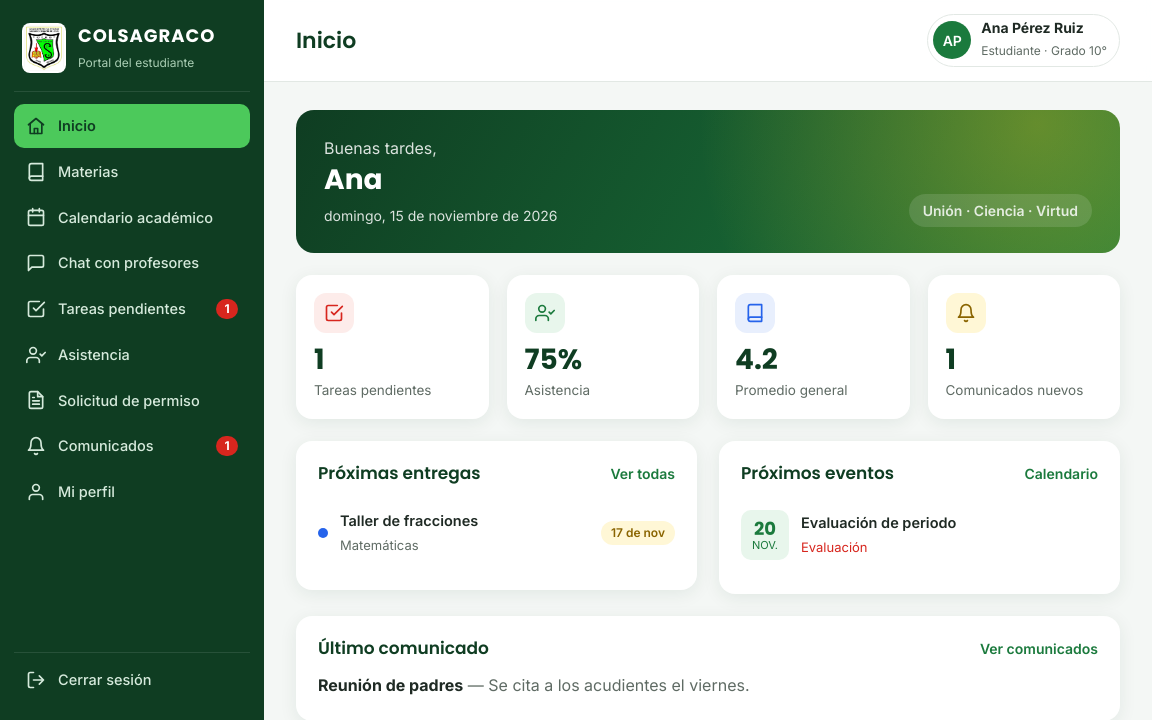
it: Plataforma del estudiante › Comunicados: al abrir uno se marca como leído
Expected: the heading "Ana" is shown, [324, 160, 382, 199]
Click the button "Comunicados 1". click: (132,446)
box: [14, 424, 250, 468]
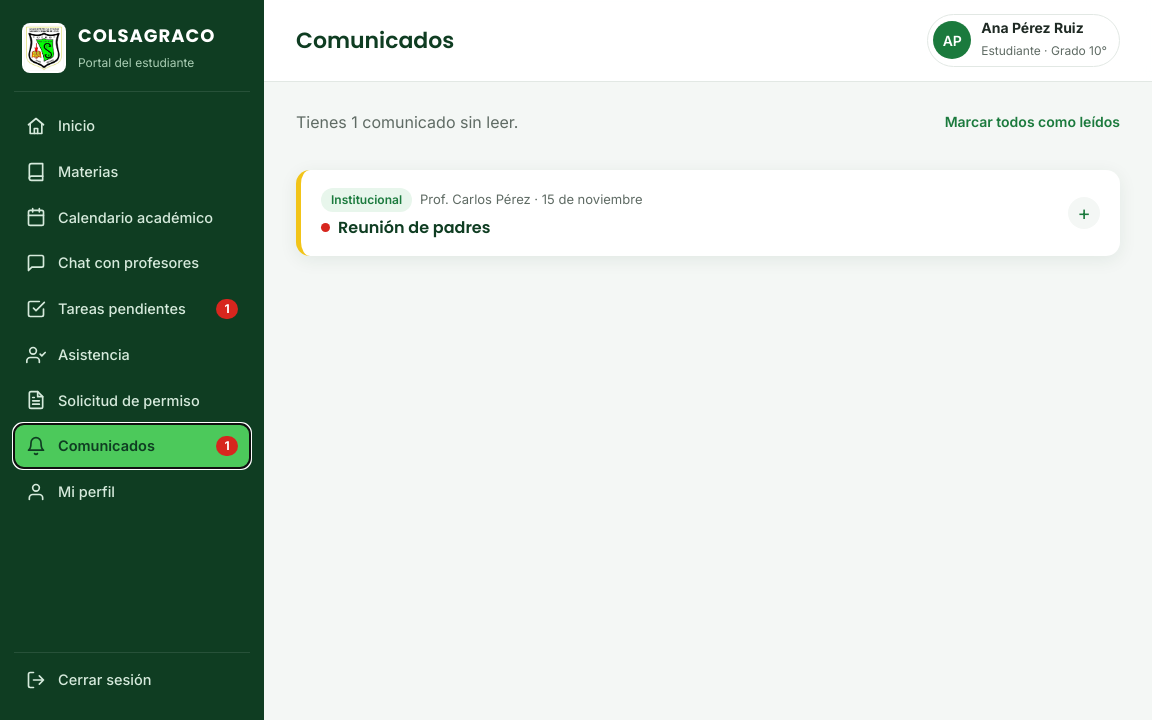
Now the text "Tienes 1 comunicado sin leer." is shown, box [296, 110, 518, 134]
Click the button "Reunión de padres". click: (367,200)
box: [301, 170, 1120, 256]
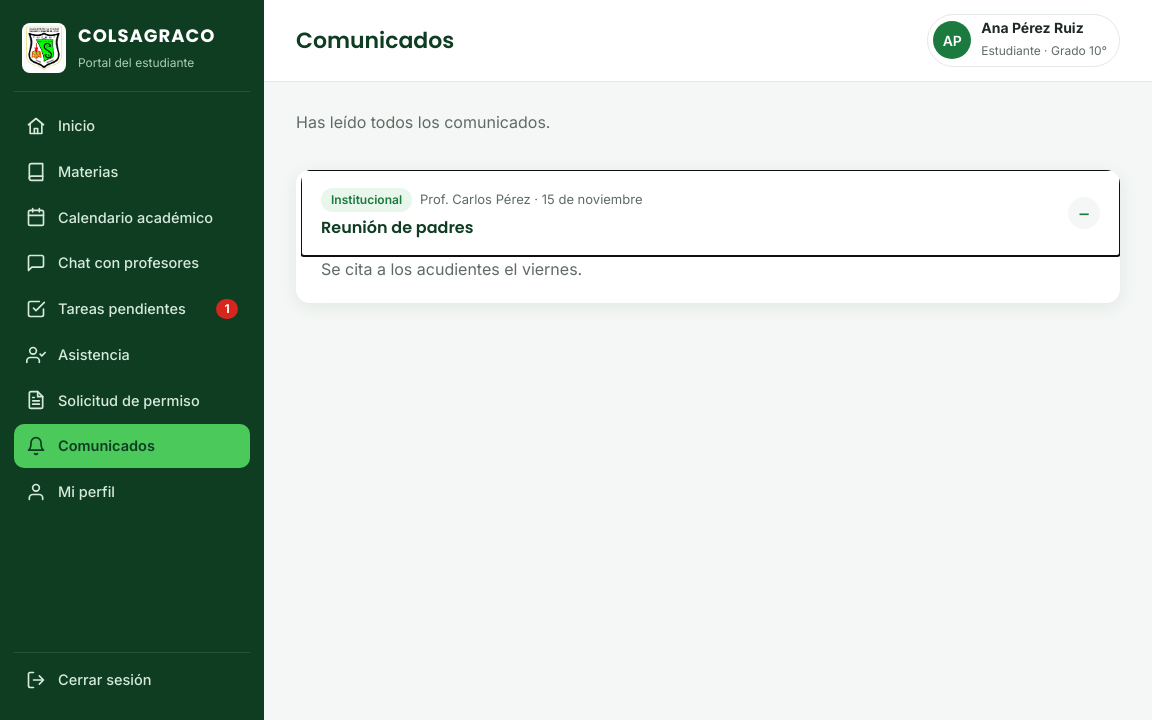
Now the text "Se cita a los acudientes el viernes." is shown, box [321, 259, 582, 279]
Now the text "Has leído todos los comunicados." is shown, box [296, 110, 550, 134]
